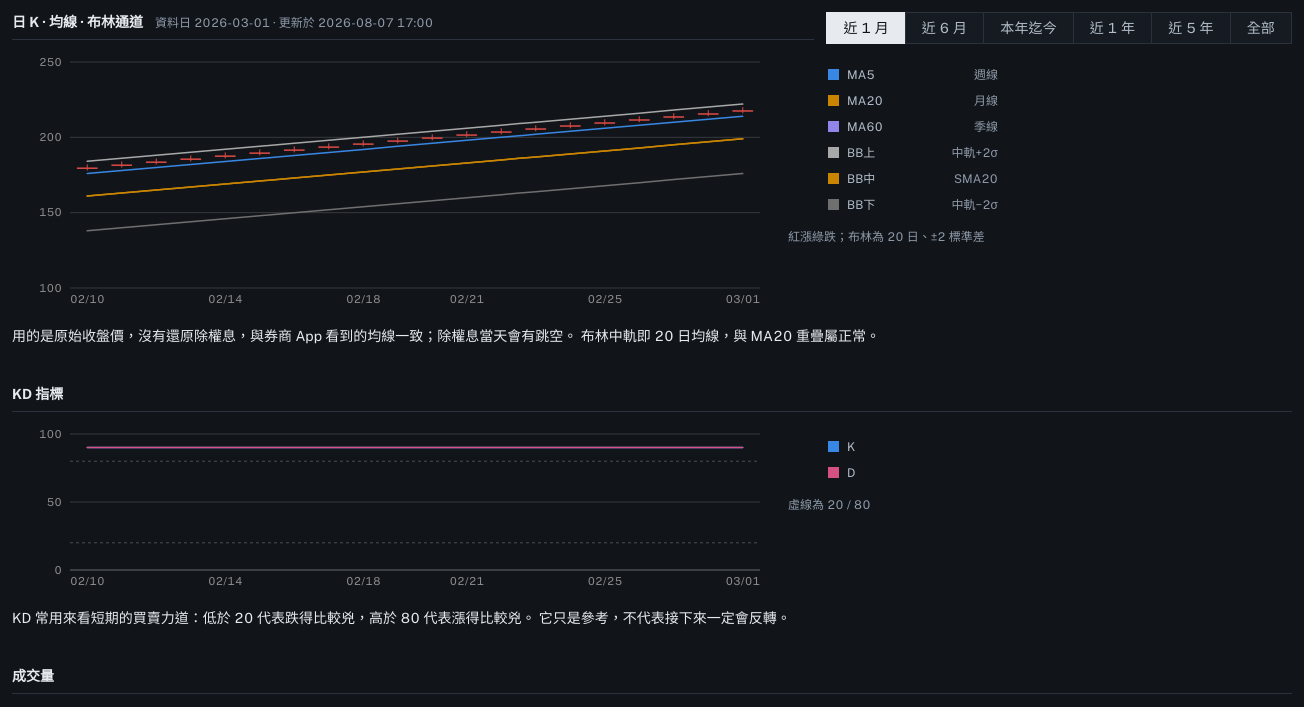
Test case: TechnicalTab 長區間 › 全部＝月 K 時的文字 › 標題旁寫「資料月份」而不是「資料日」（月 K 的最後一根沒有日）
Click the button "全部". click: (1261,28)
box: [1230,12,1292,44]
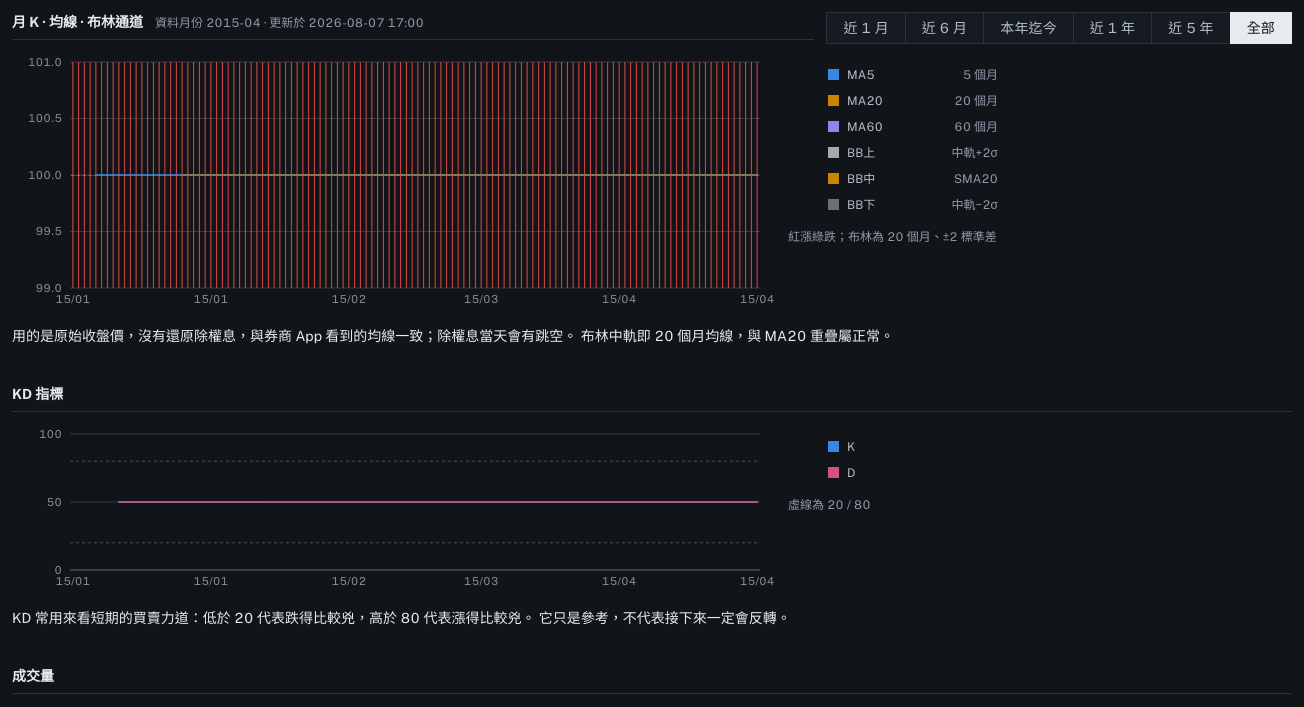
expect the text "資料月份 2015-04 · 更新於 2026-08-07 17:00" is shown: met, box [155,16,424,30]
expect the text "資料日 2026-03-01 · 更新於 2026-08-07 17:00" is gone: met
